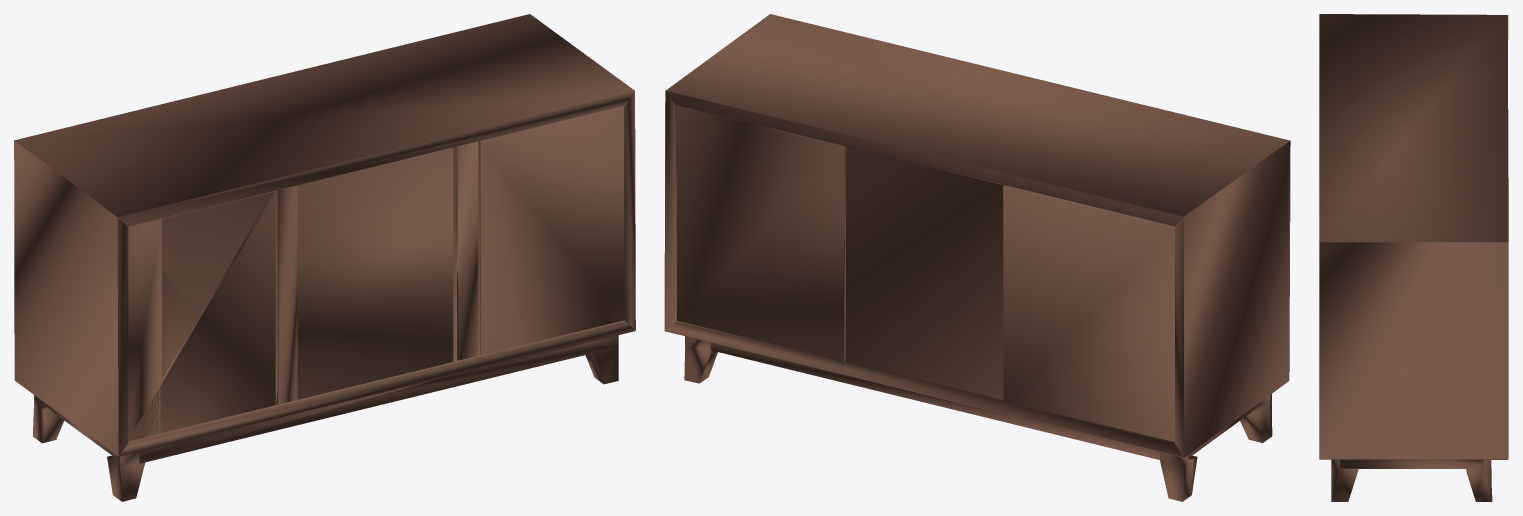
Rendered from sideboard.fbx.
3 views of the same model, side by side, from view 1: azimuth 30°, elevation 25°; view 2: azimuth 150°, elevation 25°; view 3: azimuth 270°, elevation 25° (orthographic). The views are drawn at different scales.
Parts seen in each view (by area): view 1: Mesh_0; view 2: Mesh_0; view 3: Mesh_0.
Boxes of the visible parts, x1,y1,x2,y2 form: Mesh_0: (14, 14, 635, 501); Mesh_0: (664, 14, 1290, 501); Mesh_0: (1319, 14, 1508, 501).
Size of the model in its own units: 95.51 by 51.42 by 33.45.
1 material, 1 textured.
